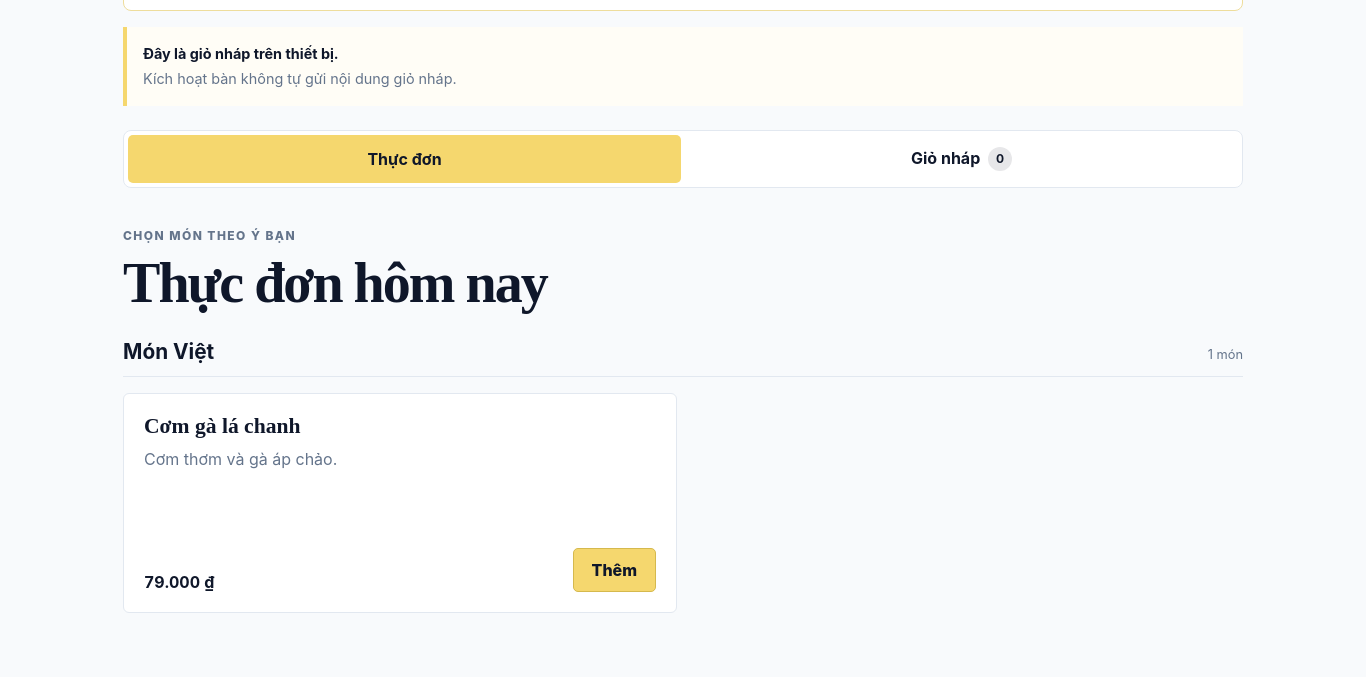
PublicMenuExperience › loads table/menu context and keeps draft cart state across views
(page scrolled)
Click the button with aria-label "Thêm Cơm gà lá chanh vào giỏ nháp" at point(614, 570), box [573,548,656,592]
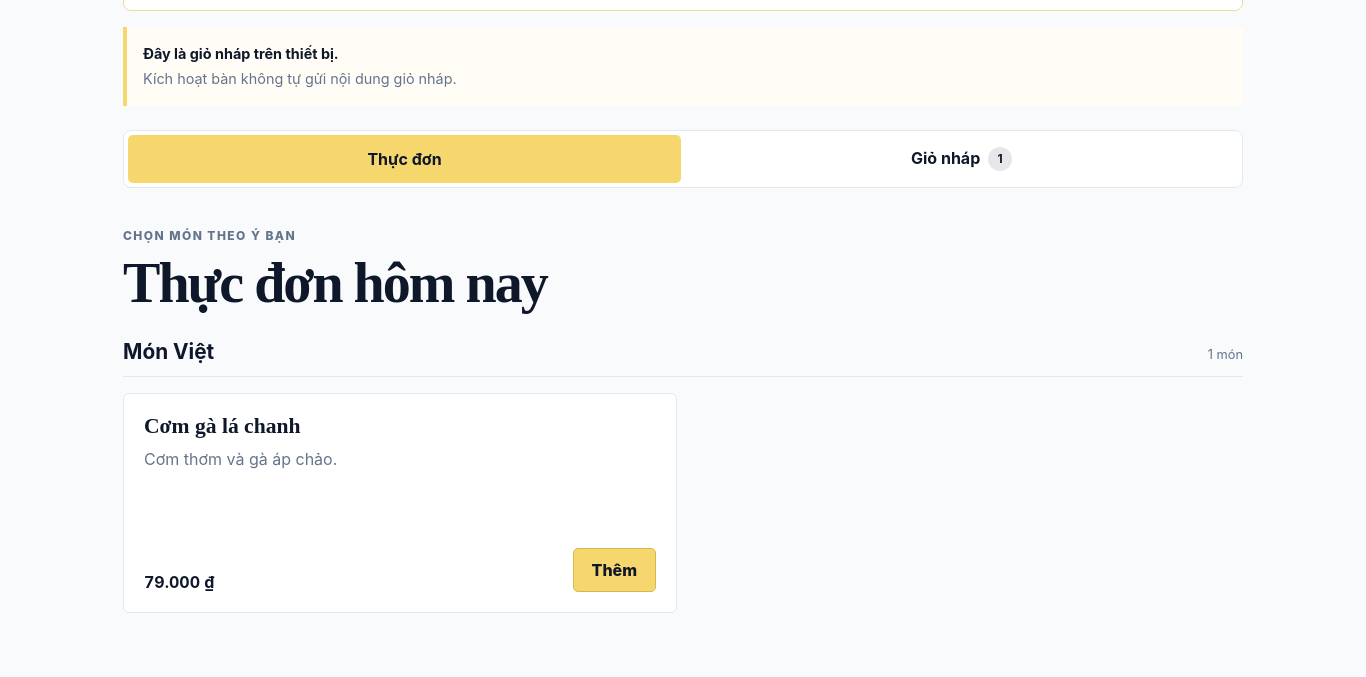
Click the button "Giỏ nháp 1" at point(962, 159), box [685,135,1238,183]
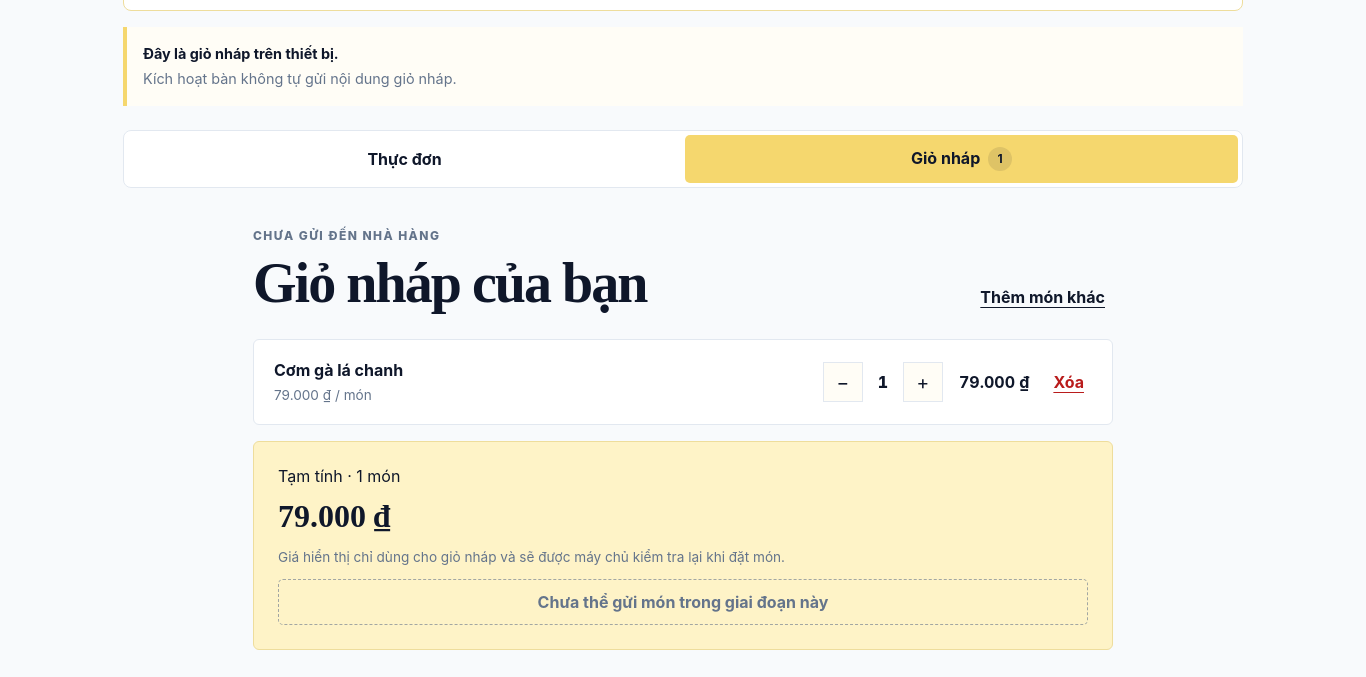
Check: the heading "Giỏ nháp của bạn" is shown, box [253,251,646,315]
Check: the text named "Số lượng hiện tại: 1" is shown, box [878,372,888,392]
Check: the text "79.000 ₫ / món" is shown, box [274,387,372,403]
Click the button named "Tăng Cơm gà lá chanh" at point(923, 382), box [903,362,943,402]
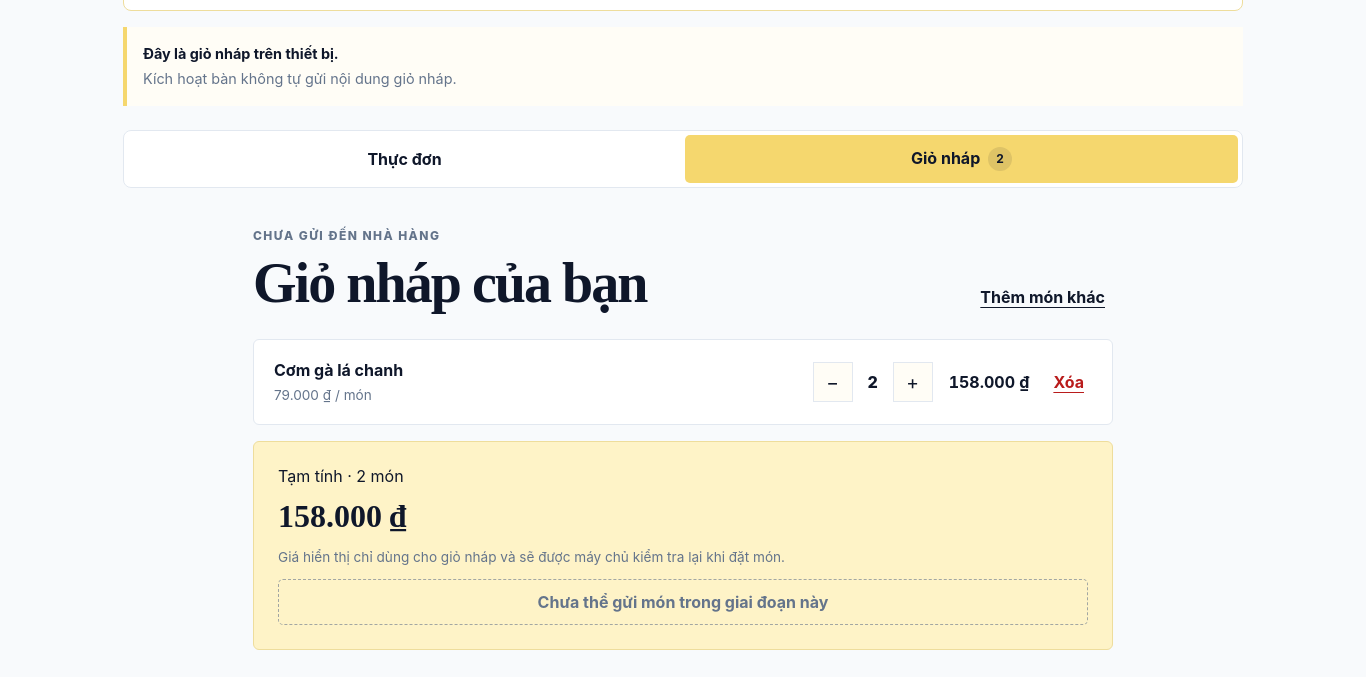
Check: the text named "Số lượng hiện tại: 2" is shown, box [868,372,878,392]
Click the button "Thêm món khác" at point(1043, 297), box [972,279,1113,315]
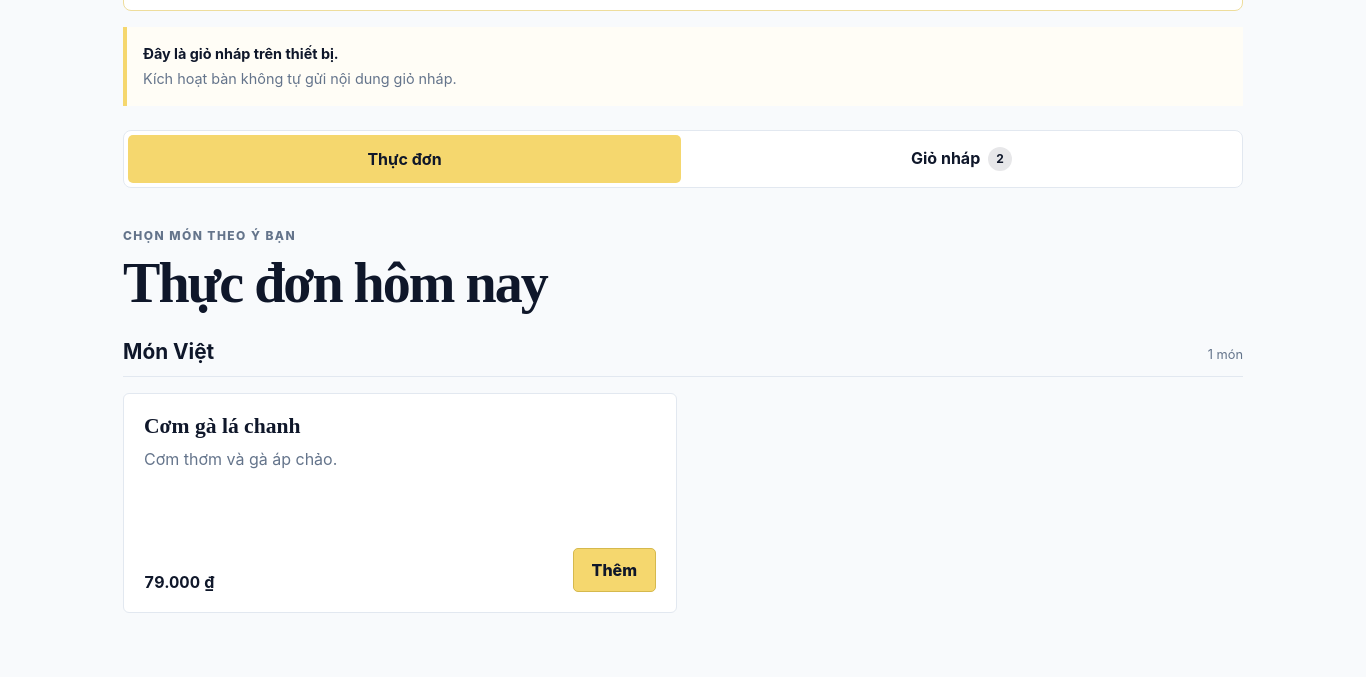
Click the button "Giỏ nháp 2" at point(962, 159), box [685,135,1238,183]
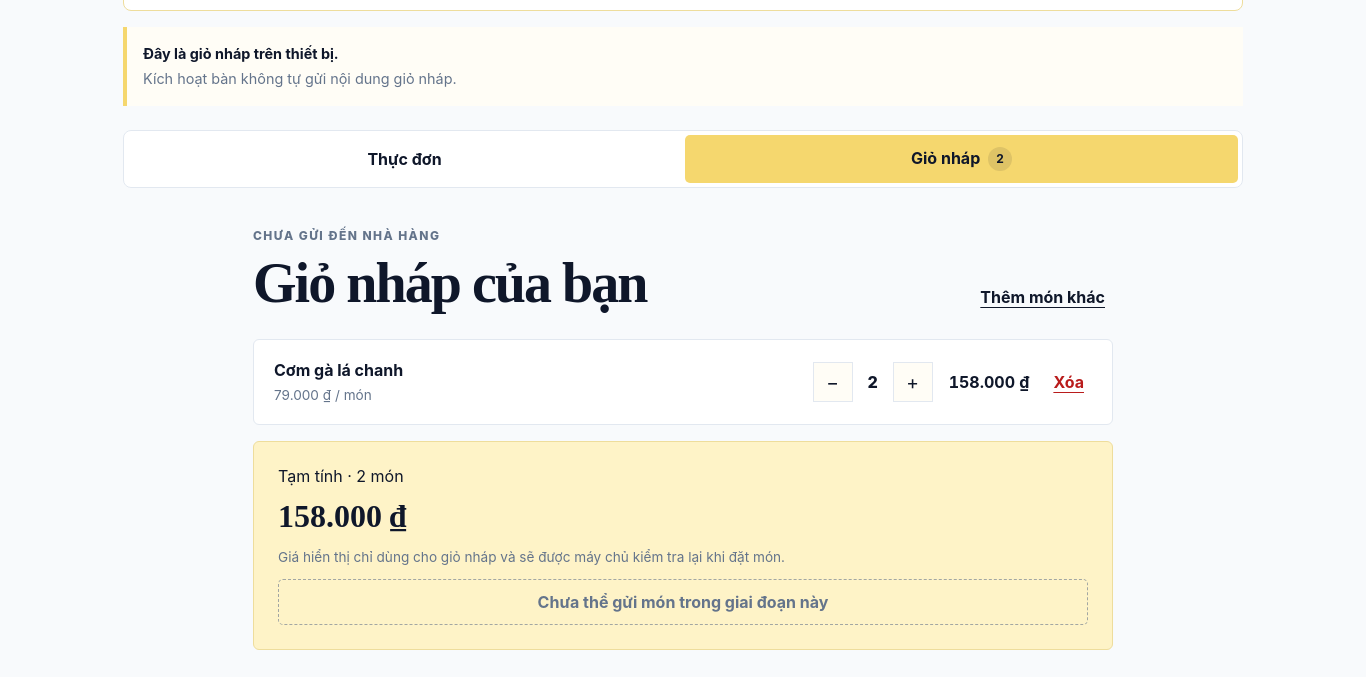
Check: the text named "Số lượng hiện tại: 2" is shown, box [868,372,878,392]
Click the button "Xóa" at point(1069, 382), box [1045,364,1092,400]
(page scrolled)
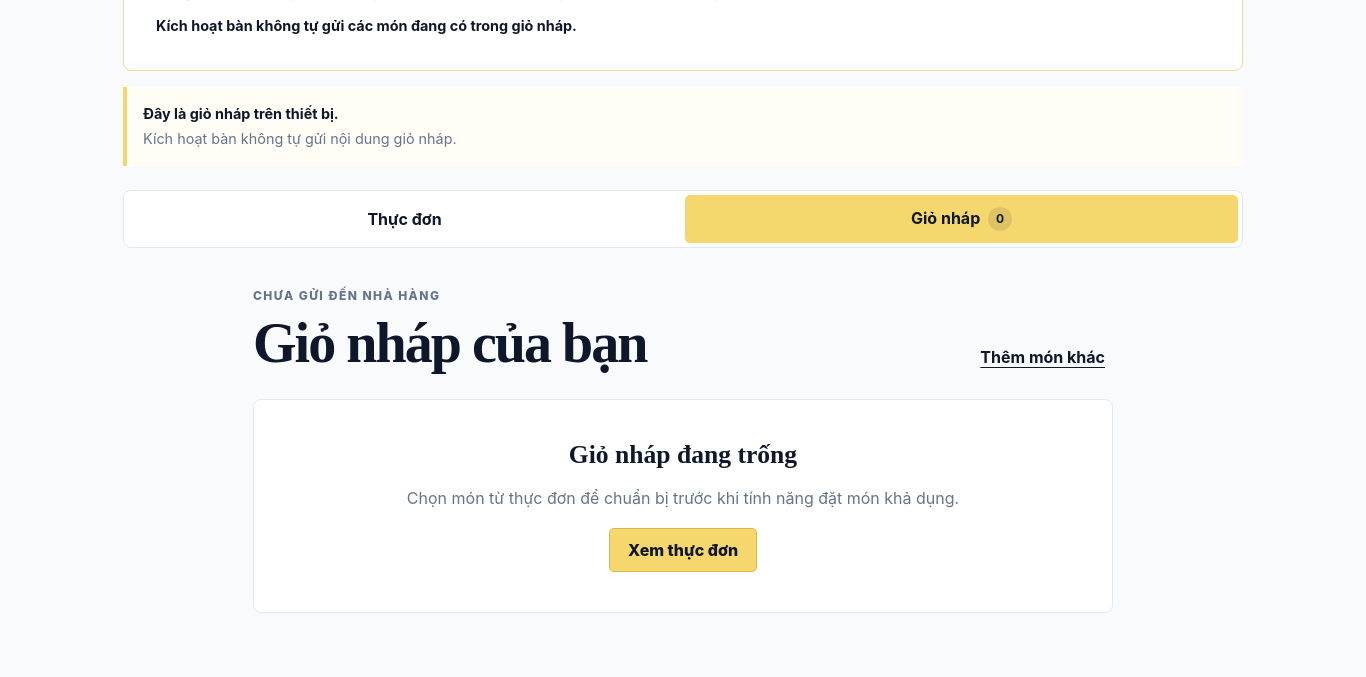
Check: the heading "Giỏ nháp đang trống" is shown, box [569,440,797,469]
